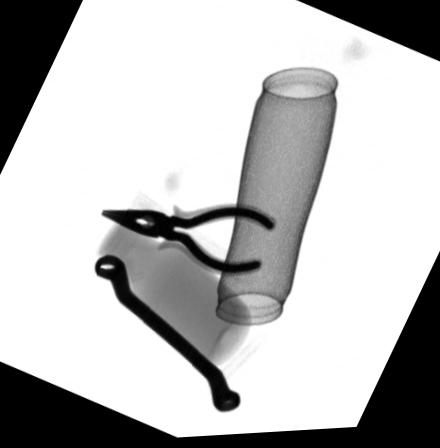Pliers: (99, 203, 278, 277)
Wrench: (92, 253, 240, 413)
